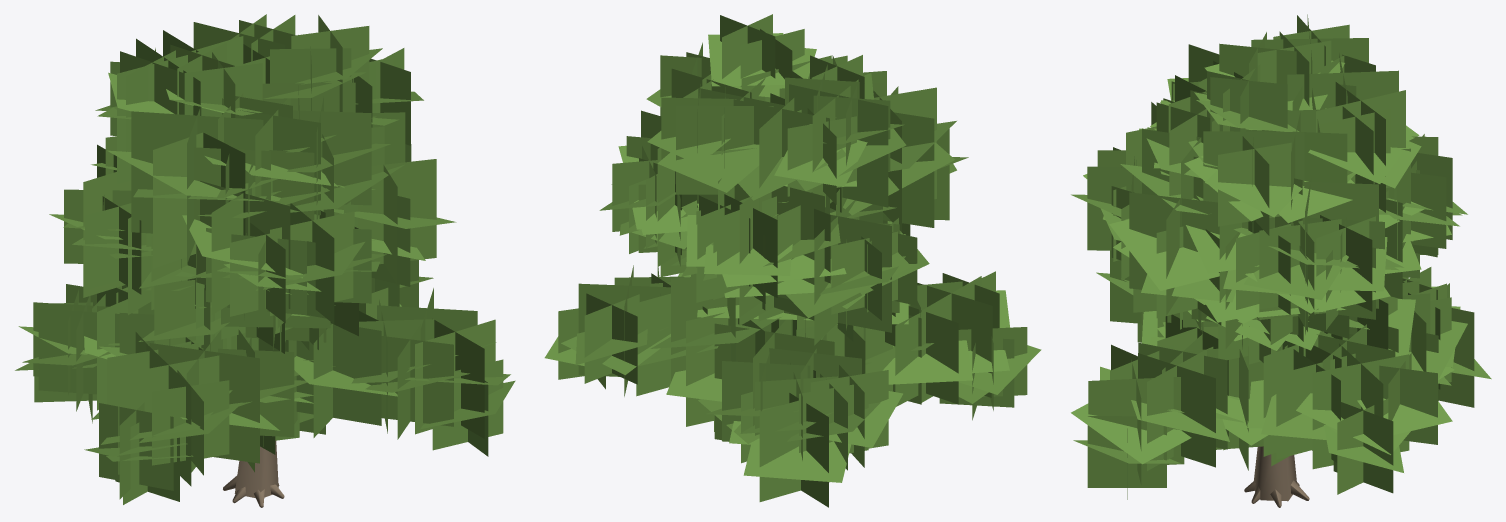
The model's file is pommier_5_loin.glb.
3 renders of one model, left to right at view 1: azimuth 30°, elevation 25°; view 2: azimuth 150°, elevation 25°; view 3: azimuth 270°, elevation 25°, orthographic. The views are drawn at different scales.
Parts seen in each view (by area): view 1: Pommier_T5_Leger_Loin; view 2: Pommier_T5_Leger_Loin; view 3: Pommier_T5_Leger_Loin.
Boxes of the visible parts, box(x1,y1,x2,y2) form: Pommier_T5_Leger_Loin: box(15, 14, 515, 507); Pommier_T5_Leger_Loin: box(544, 14, 1041, 507); Pommier_T5_Leger_Loin: box(1071, 14, 1491, 507).
Bounding box in the file's own units: 9.6 × 10.17 × 8.74.
